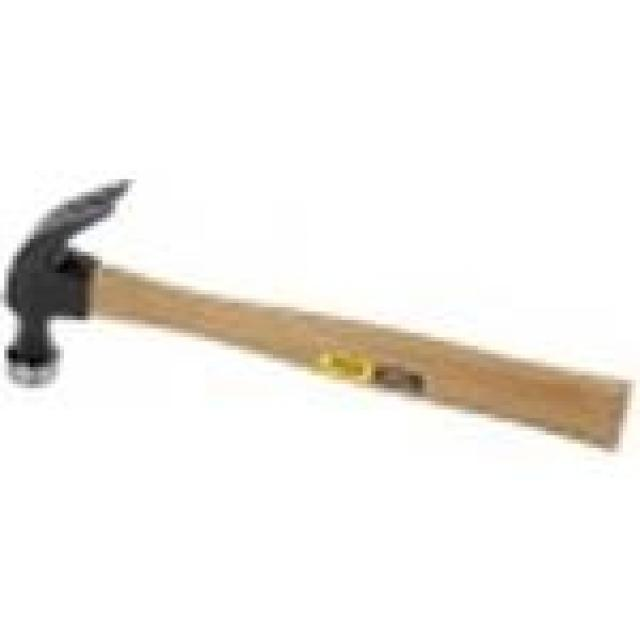hammer: (0, 166, 636, 452)
